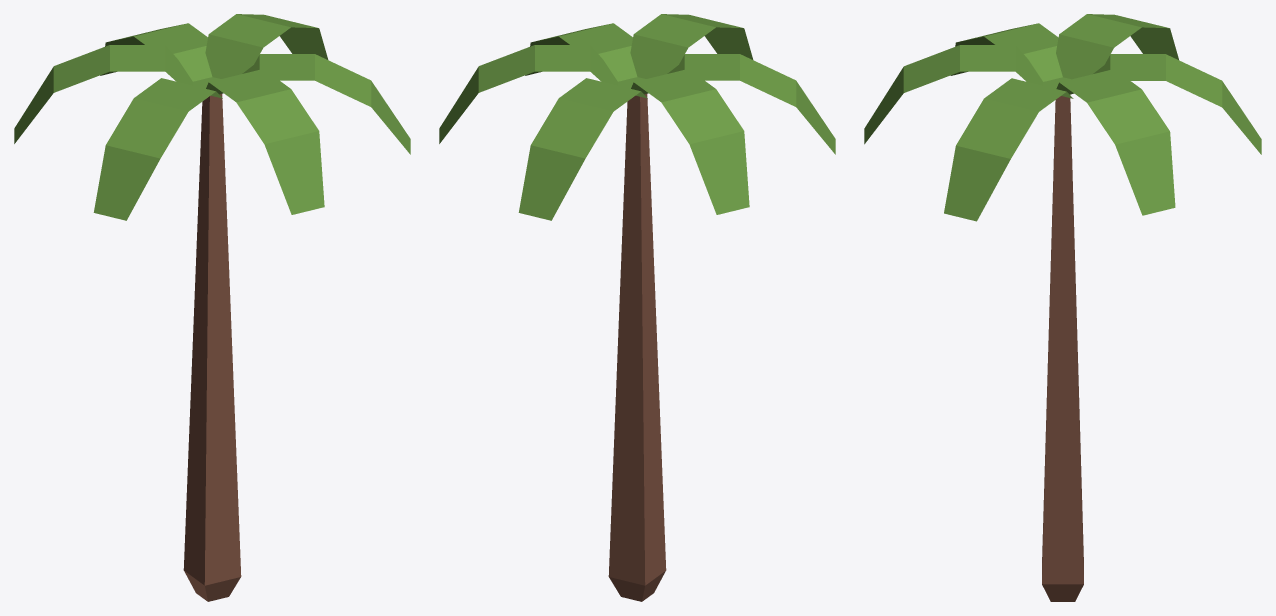
The model's file is tree_palm.fbx.
The picture shows the model from 3 angles, left to right: view 1: azimuth 30°, elevation 25°; view 2: azimuth 150°, elevation 25°; view 3: azimuth 270°, elevation 25°; orthographic projection.
Parts seen in each view (by area): view 1: tree_palm; view 2: tree_palm; view 3: tree_palm.
Part boxes in pixels (x1,y1,x2,y2): tree_palm: [14, 14, 410, 601]; tree_palm: [439, 14, 835, 601]; tree_palm: [864, 14, 1261, 601].
Bounding box in the file's own units: 2.92 × 4.73 × 3.16.
